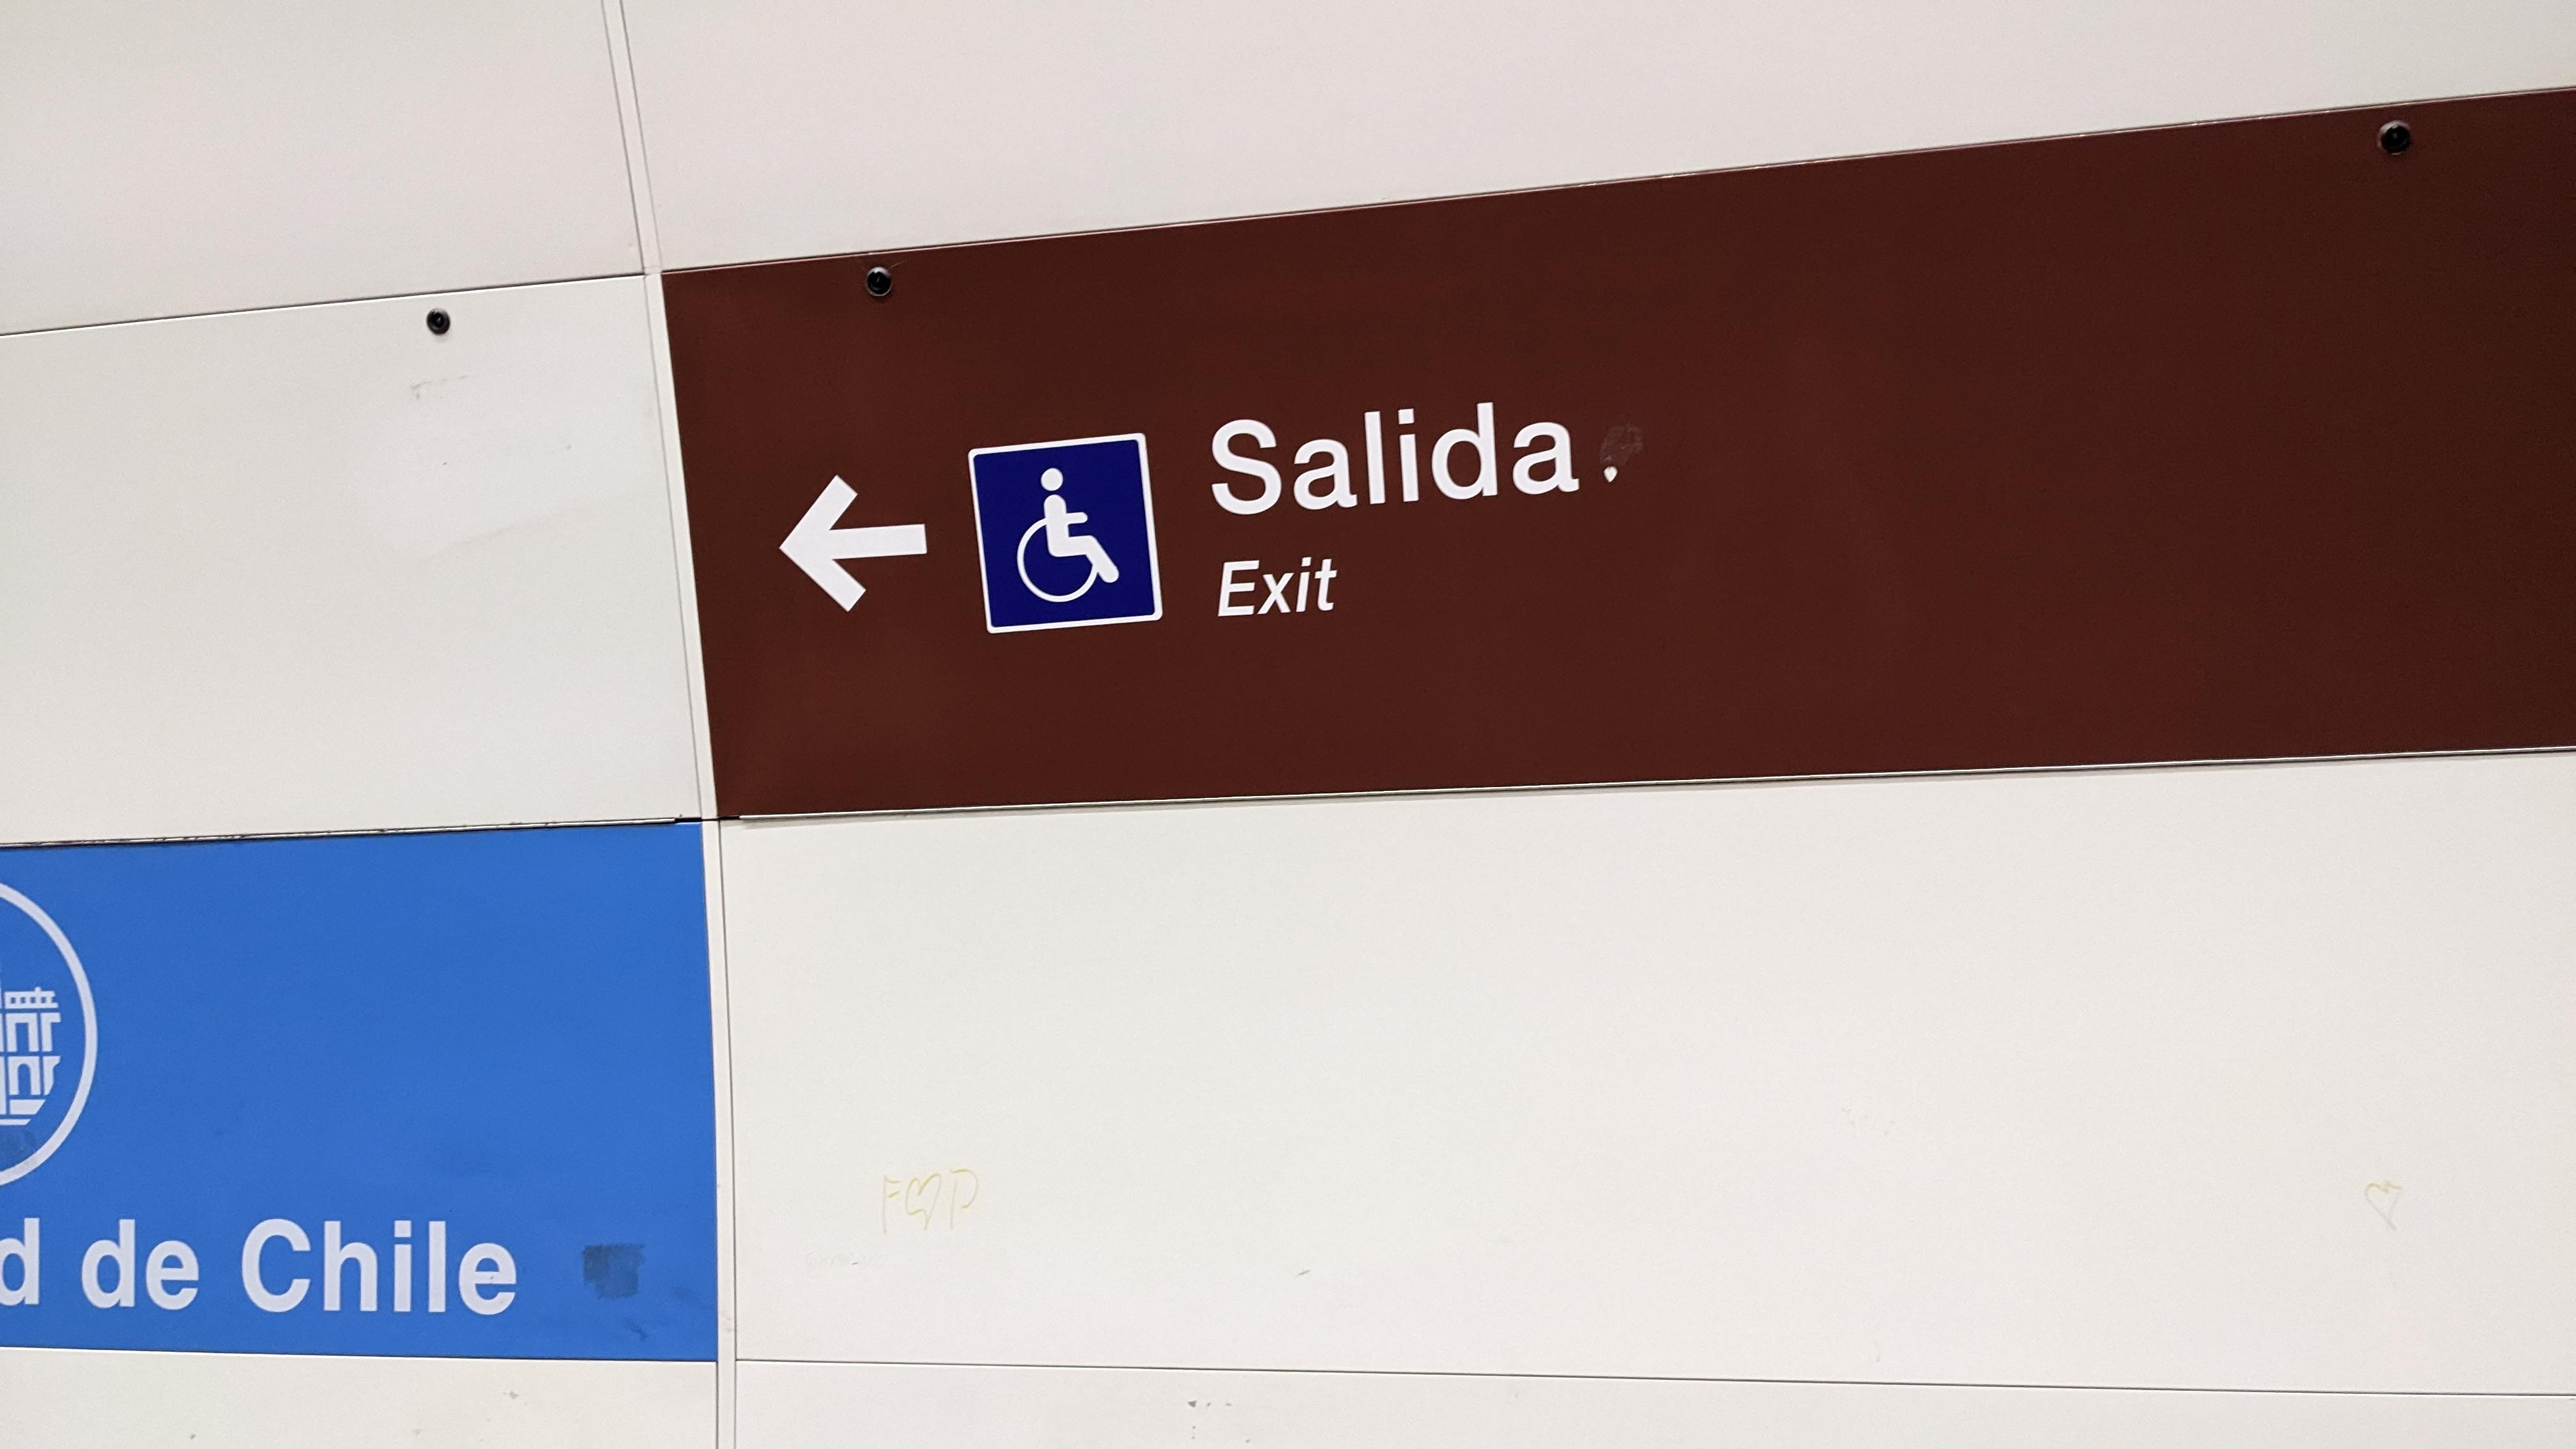handicapped symbol: (1008, 464, 1123, 609)
left arrow: (770, 469, 938, 621)
